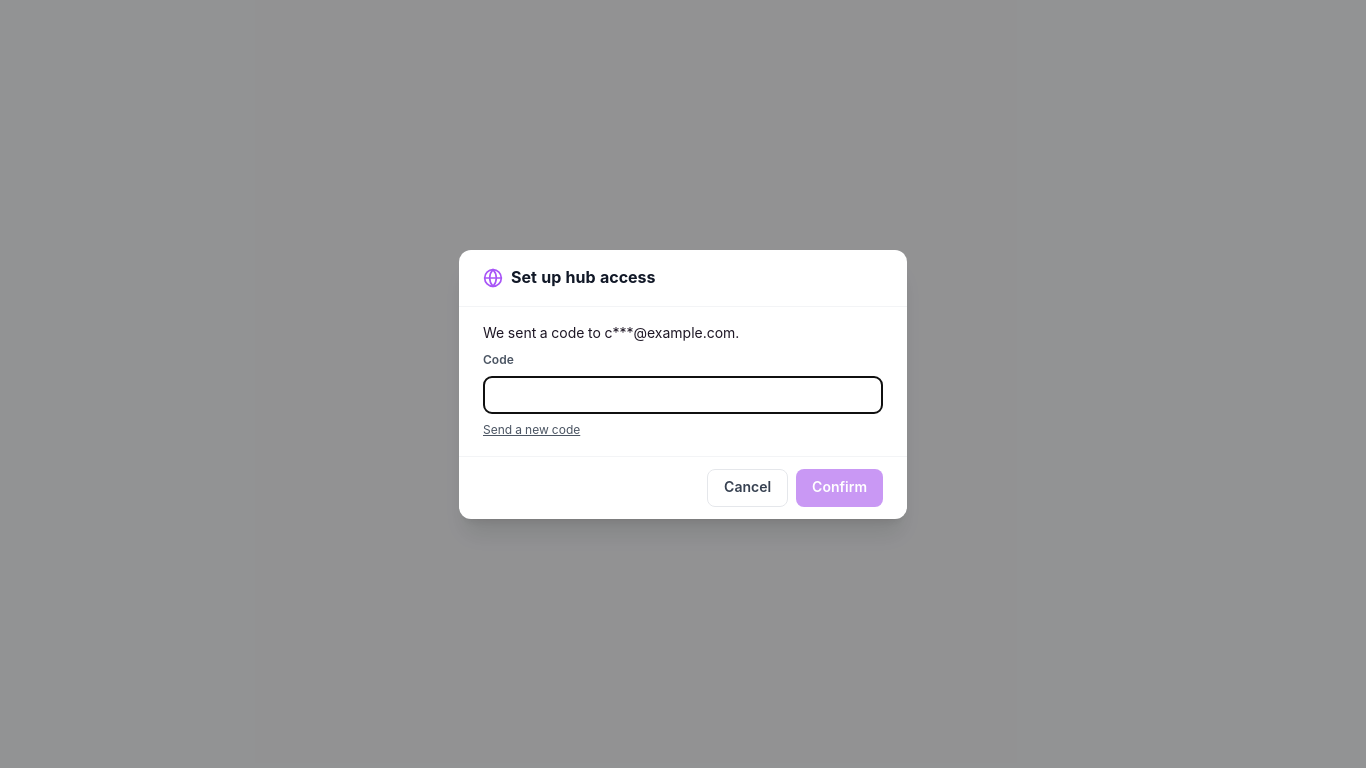
it: HubEnrollmentDialog › a code already sent opens on the code step; resend posts the enrollment again
Click the button "Send a new code": coordinates (532, 430) [483,422,580,438]
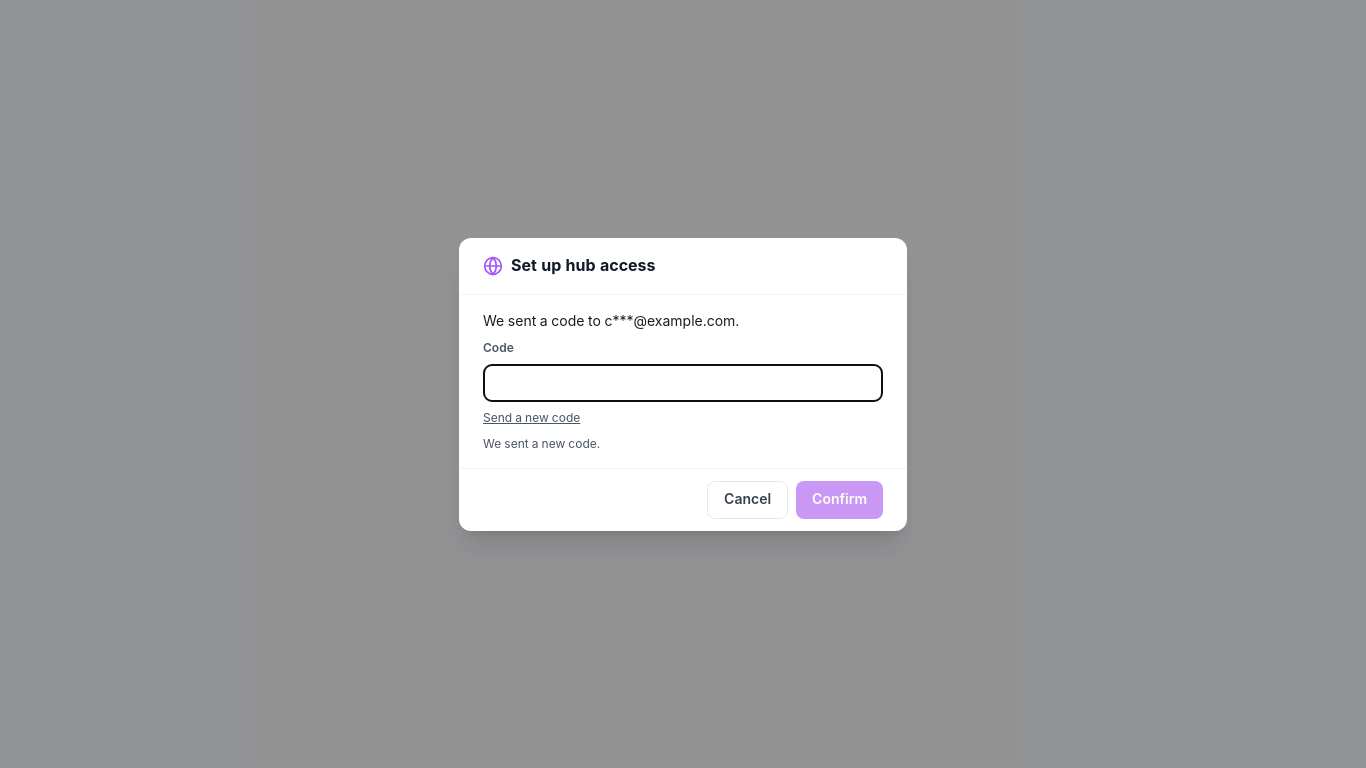
Now the text "We sent a new code." is shown, box [483,436,600,452]
